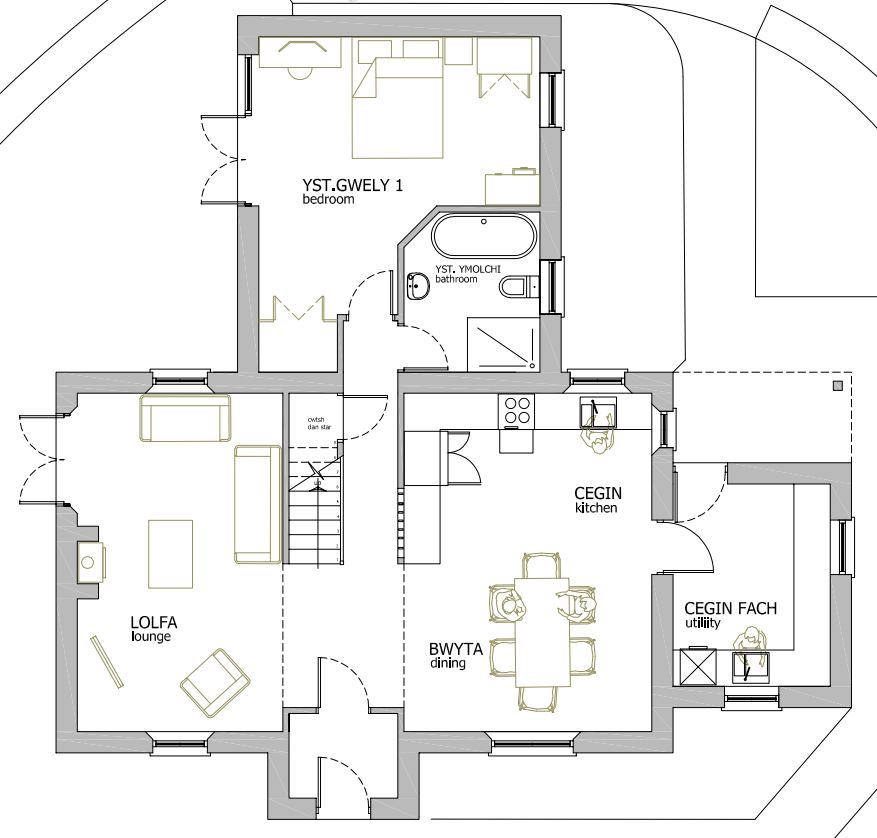basin: (406, 269, 429, 303)
bathtub: (431, 211, 536, 259)
door: (674, 462, 729, 525), (316, 754, 368, 817), (315, 655, 367, 712), (13, 460, 74, 506), (198, 162, 261, 206), (664, 520, 713, 573), (347, 267, 394, 321), (17, 414, 72, 460), (199, 113, 251, 160), (398, 324, 448, 371), (342, 391, 387, 439)
shower: (465, 317, 538, 370)
sink: (730, 650, 774, 687), (575, 395, 618, 429)
toilet: (499, 273, 538, 299)
window: (489, 731, 579, 758), (149, 367, 211, 397), (148, 731, 212, 756), (538, 72, 565, 128), (568, 370, 628, 395), (831, 519, 857, 576), (539, 258, 565, 313), (725, 687, 780, 713), (236, 55, 259, 113), (649, 405, 675, 451)
